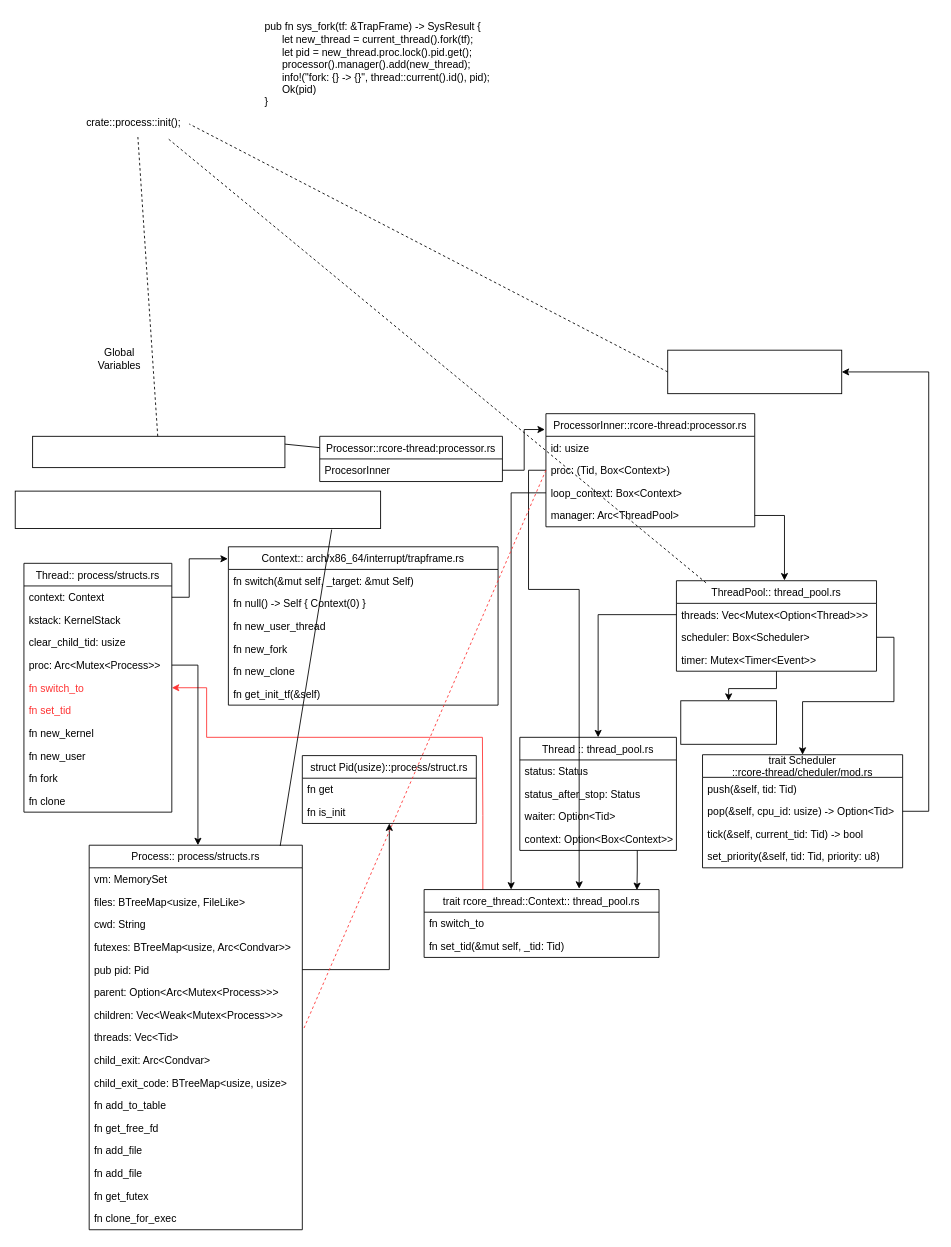
This 951x1247 diagram has some shape labels left out. The shapes that lost their labels are listed below. From the top down, each one's centre as x and y in pixels, then its label:
(x=754, y=371): pub struct RRScheduler { inner : Mutex<RRSchedulerInner> , }
(x=158, y=451): PROCESSORS: [Processor; MAX_CPU_NUM] process/mod.rs
(x=197, y=509): PROCESSES: RwLock<BTreeMap<usize, Weak<Mutex<Process>>> process/structs.rs
(x=728, y=722): enum Event { Wakeup (Tid) , }
